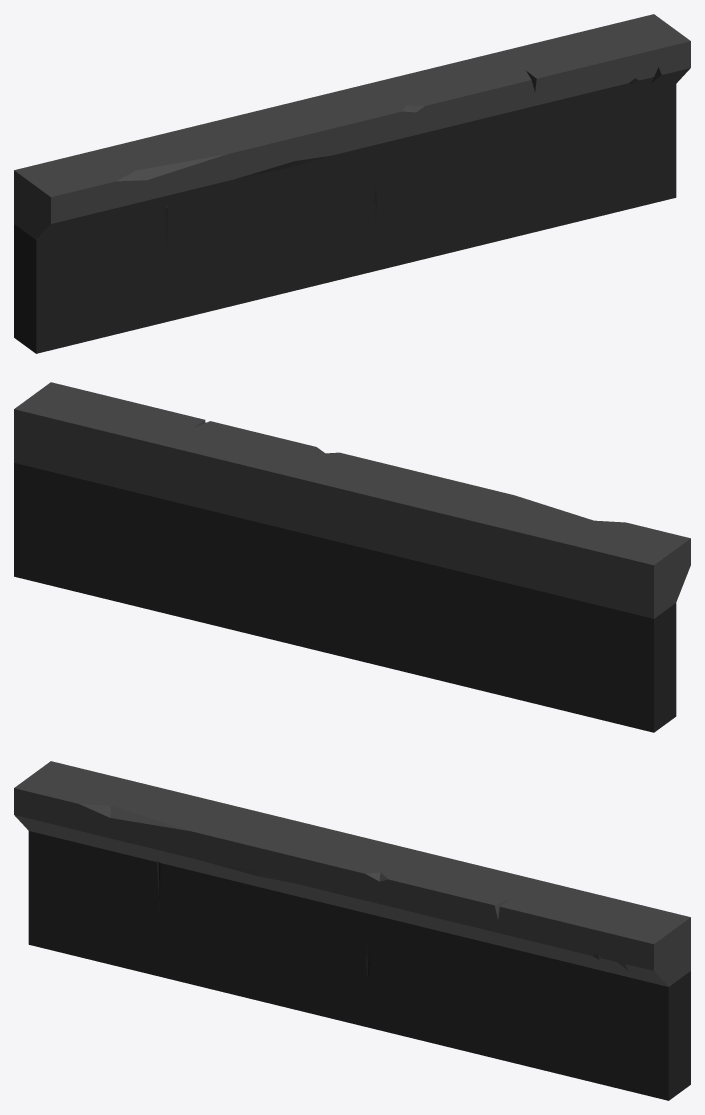
File: SW_ENV_RailTunnel_Wall_Ledge_B_05m.fbx
The picture shows the model from 3 angles, top to bottom: view 1: azimuth 30°, elevation 25°; view 2: azimuth 150°, elevation 25°; view 3: azimuth 330°, elevation 25°; orthographic projection.
Parts seen in each view (by area): view 1: SW_ENV_RailTunnel_Wall_Ledge_B_05m; view 2: SW_ENV_RailTunnel_Wall_Ledge_B_05m; view 3: SW_ENV_RailTunnel_Wall_Ledge_B_05m.
Part boxes in pixels (x1=…): SW_ENV_RailTunnel_Wall_Ledge_B_05m: x1=14, y1=14, x2=690, y2=353; SW_ENV_RailTunnel_Wall_Ledge_B_05m: x1=14, y1=382, x2=690, y2=732; SW_ENV_RailTunnel_Wall_Ledge_B_05m: x1=14, y1=761, x2=690, y2=1100.
Bounding box in the file's own units: 5 × 1.25 × 0.5.
